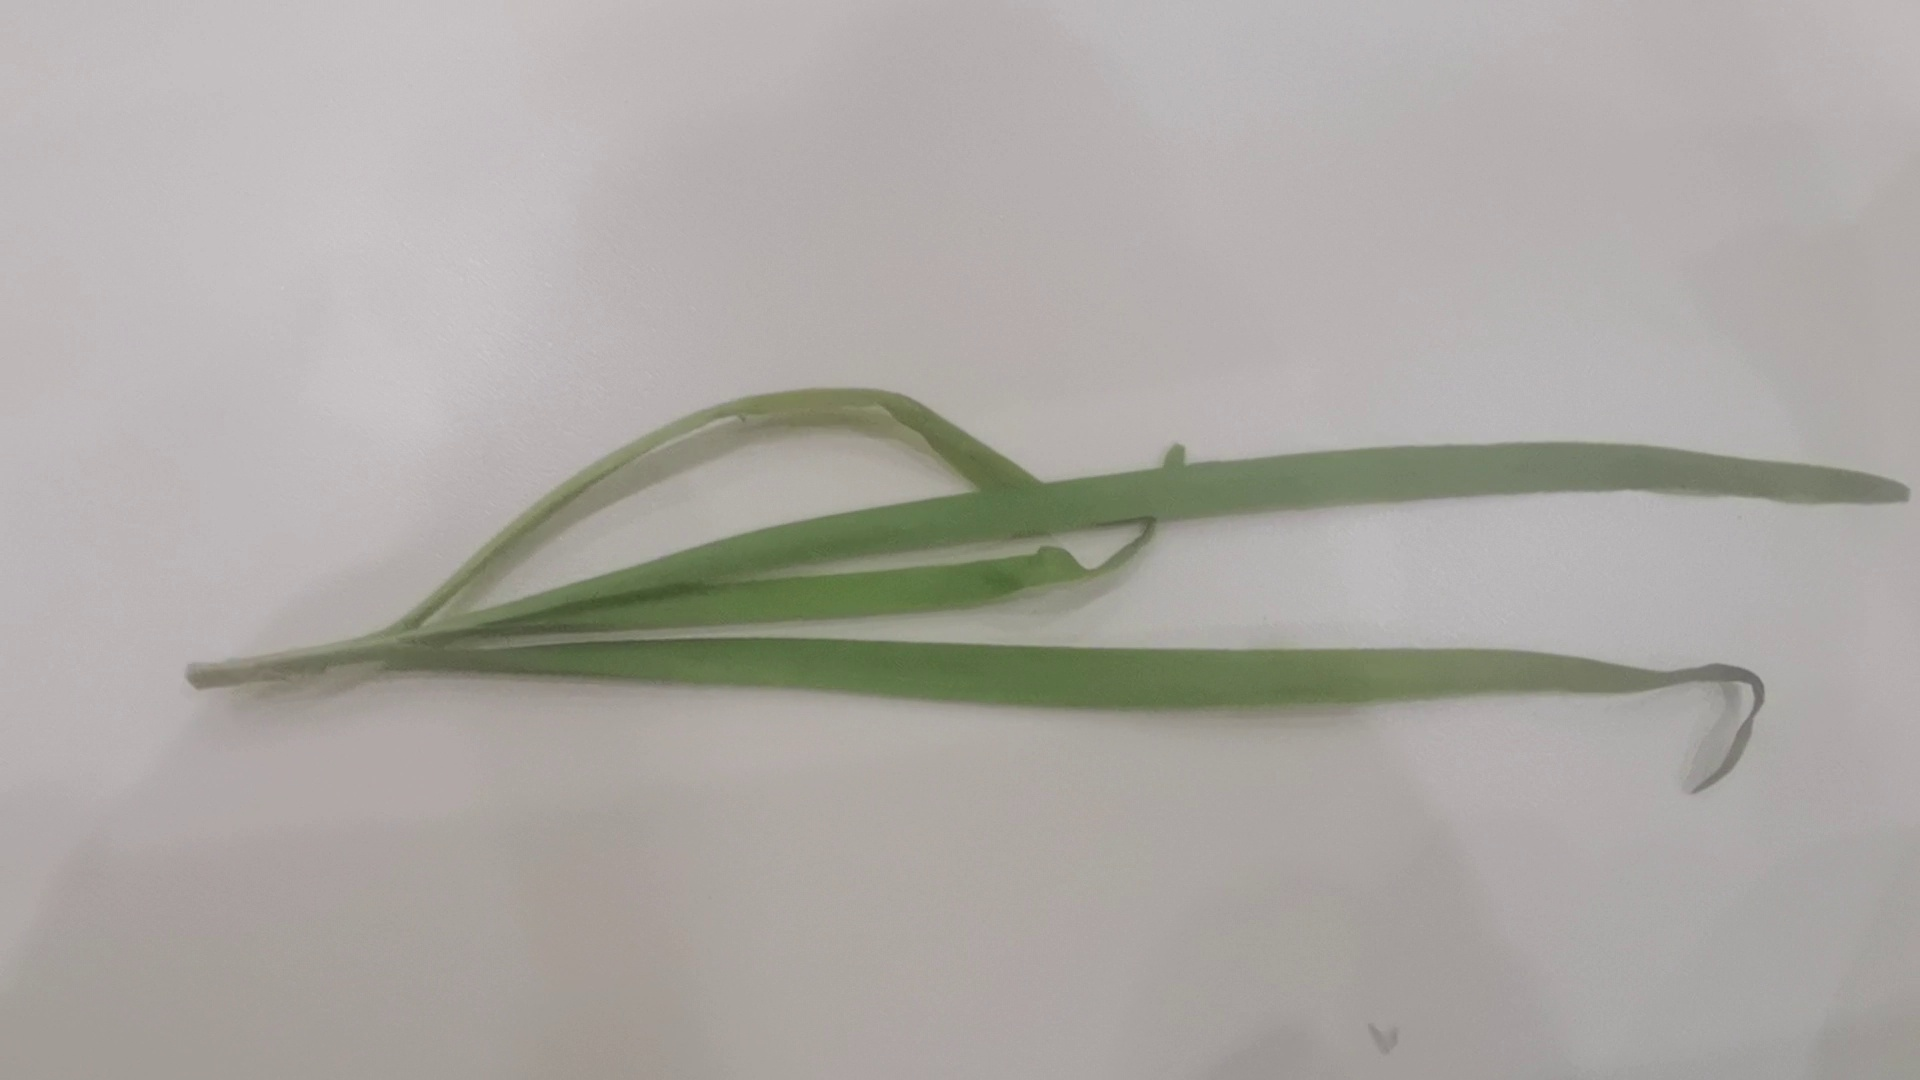chives: (160, 352, 1909, 824)
